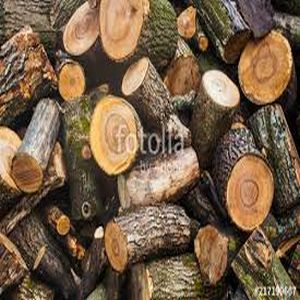log: (237, 28, 297, 107), (91, 95, 141, 177), (221, 151, 271, 229), (95, 1, 154, 65), (188, 225, 230, 287), (60, 1, 102, 58), (202, 67, 241, 121), (164, 51, 204, 100), (100, 222, 134, 275), (10, 150, 43, 198), (119, 54, 151, 99), (54, 61, 88, 103), (54, 214, 70, 239)
